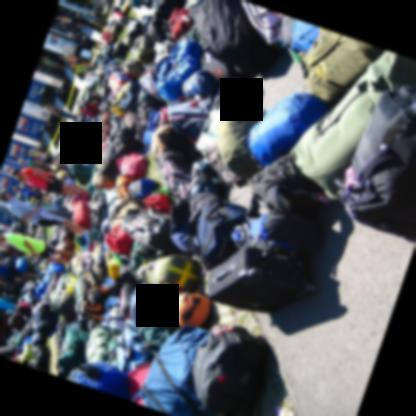backpack: (189, 322, 267, 416), (245, 172, 331, 223), (167, 95, 216, 136), (137, 311, 179, 357)
handbag: (239, 214, 326, 256), (162, 290, 210, 326)
suitcase: (0, 0, 390, 415), (288, 50, 416, 201), (335, 86, 416, 243), (206, 245, 317, 315), (187, 0, 278, 77), (297, 28, 388, 101), (209, 104, 265, 180), (129, 177, 158, 197), (14, 301, 33, 319), (46, 273, 62, 294), (72, 131, 84, 150), (0, 344, 15, 357), (77, 113, 86, 132)
